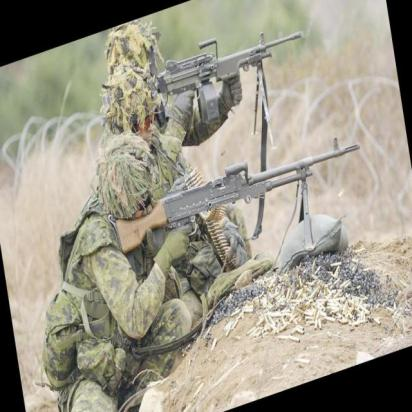Gun: (119, 111, 368, 266), (156, 15, 311, 119)
